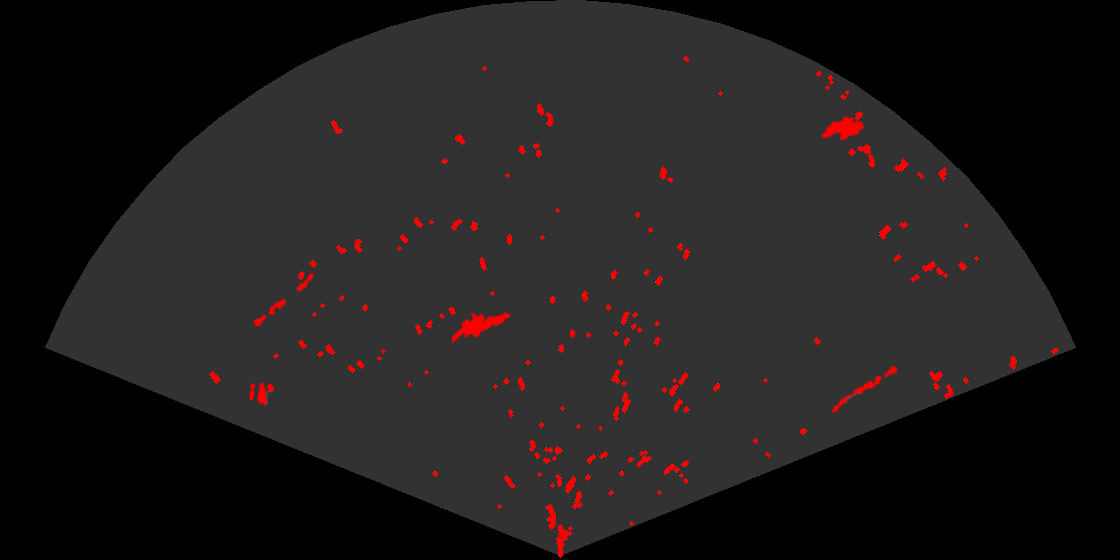AUV: (819, 114, 866, 142)
ball: (248, 380, 276, 407)
chain: (248, 271, 316, 333), (830, 362, 903, 414)
frogman: (452, 311, 512, 345)
